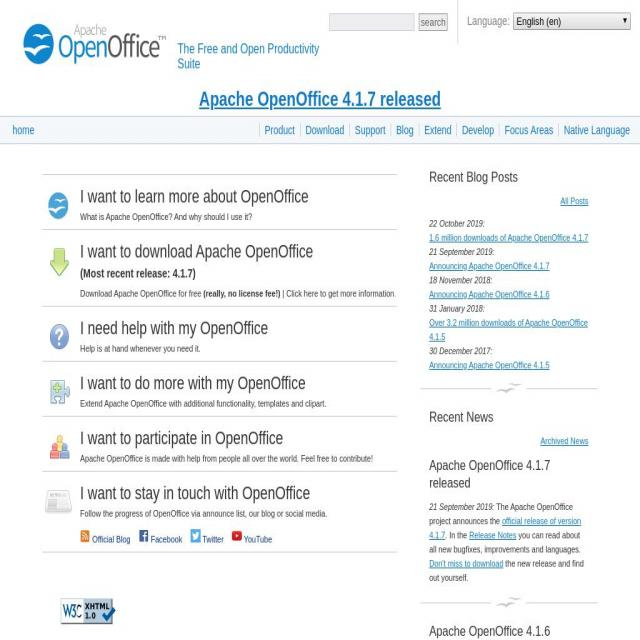button: (42, 242, 397, 284), (42, 187, 397, 225), (42, 319, 397, 357), (42, 374, 397, 412), (42, 429, 397, 467), (42, 484, 397, 522), (14, 4, 169, 81), (59, 593, 119, 629), (564, 124, 630, 138), (504, 124, 554, 138), (305, 124, 344, 138), (419, 13, 448, 31), (462, 124, 495, 138), (354, 124, 386, 138), (264, 124, 295, 138), (11, 122, 36, 139), (424, 124, 451, 138), (396, 124, 414, 138)
field: (512, 12, 630, 31), (329, 13, 415, 31)
